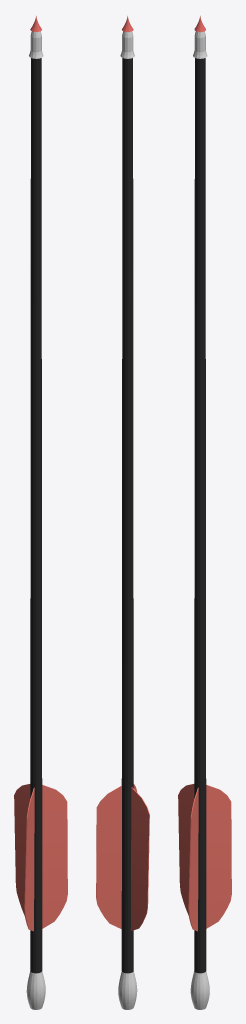
File: Arrow.fbx
3 views of the same model, side by side, from view 1: azimuth 30°, elevation 25°; view 2: azimuth 210°, elevation 25°; view 3: azimuth 270°, elevation 25° (orthographic).
Visible parts, largest first — view 1: Arrow; view 2: Arrow; view 3: Arrow.
Part boxes in pixels (box(x1,y1,x2,y2)): Arrow: box(14, 16, 67, 1009); Arrow: box(96, 16, 149, 1009); Arrow: box(178, 16, 231, 1009).
Bounding box in the file's own units: 3.87 × 76 × 3.73.
